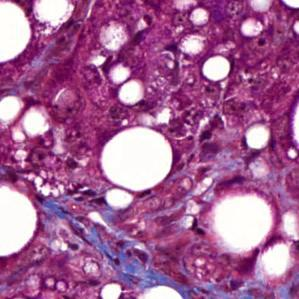steatosis: (98, 127, 177, 189), (200, 53, 233, 85)
